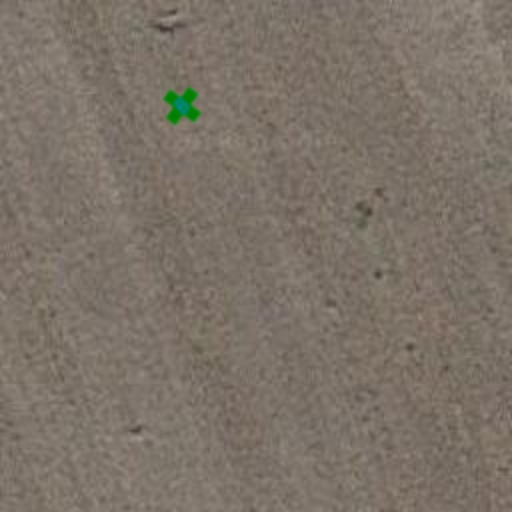cross: (154, 78, 210, 134)
